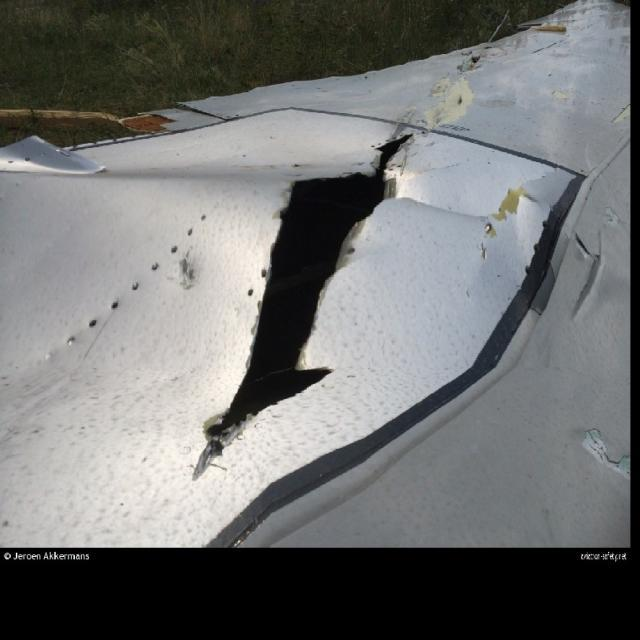crack: (184, 132, 418, 490), (456, 94, 465, 108)
